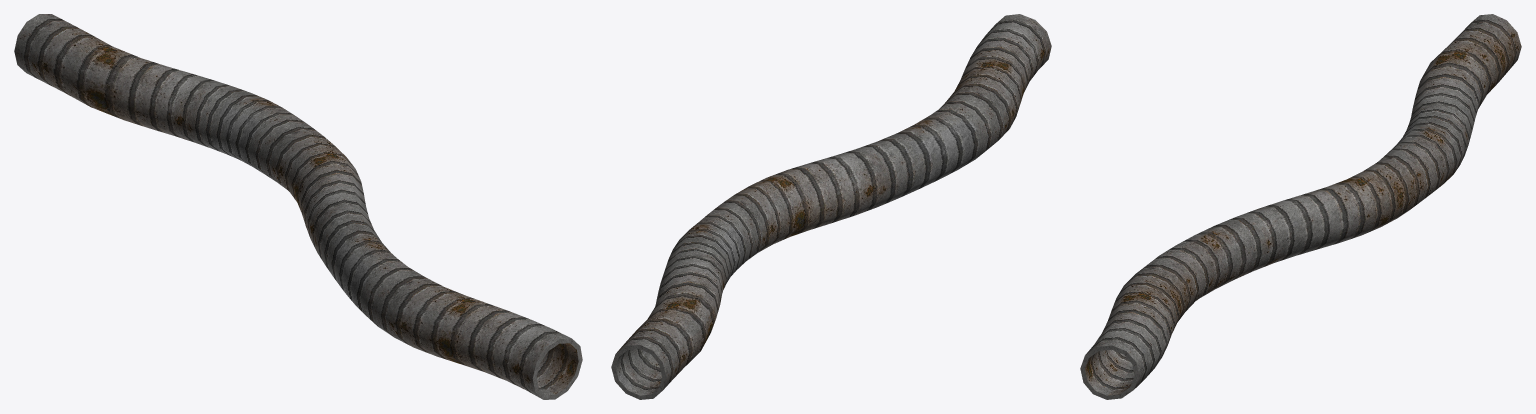
The model's file is pipe_e_2.glb.
3 renders of one model, left to right at view 1: azimuth 30°, elevation 25°; view 2: azimuth 150°, elevation 25°; view 3: azimuth 330°, elevation 25°, orthographic. The views are drawn at different scales.
Visible parts, largest first — view 1: pipe_e_2; view 2: pipe_e_2; view 3: pipe_e_2.
Part boxes in pixels (box(x1,y1,x2,y2)): pipe_e_2: box(14, 14, 582, 399); pipe_e_2: box(611, 14, 1051, 399); pipe_e_2: box(1080, 14, 1521, 399).
Bounding box in the file's own units: 0.5889 × 0.2502 × 3.61.
Materials: 1 (1 with a texture image).
